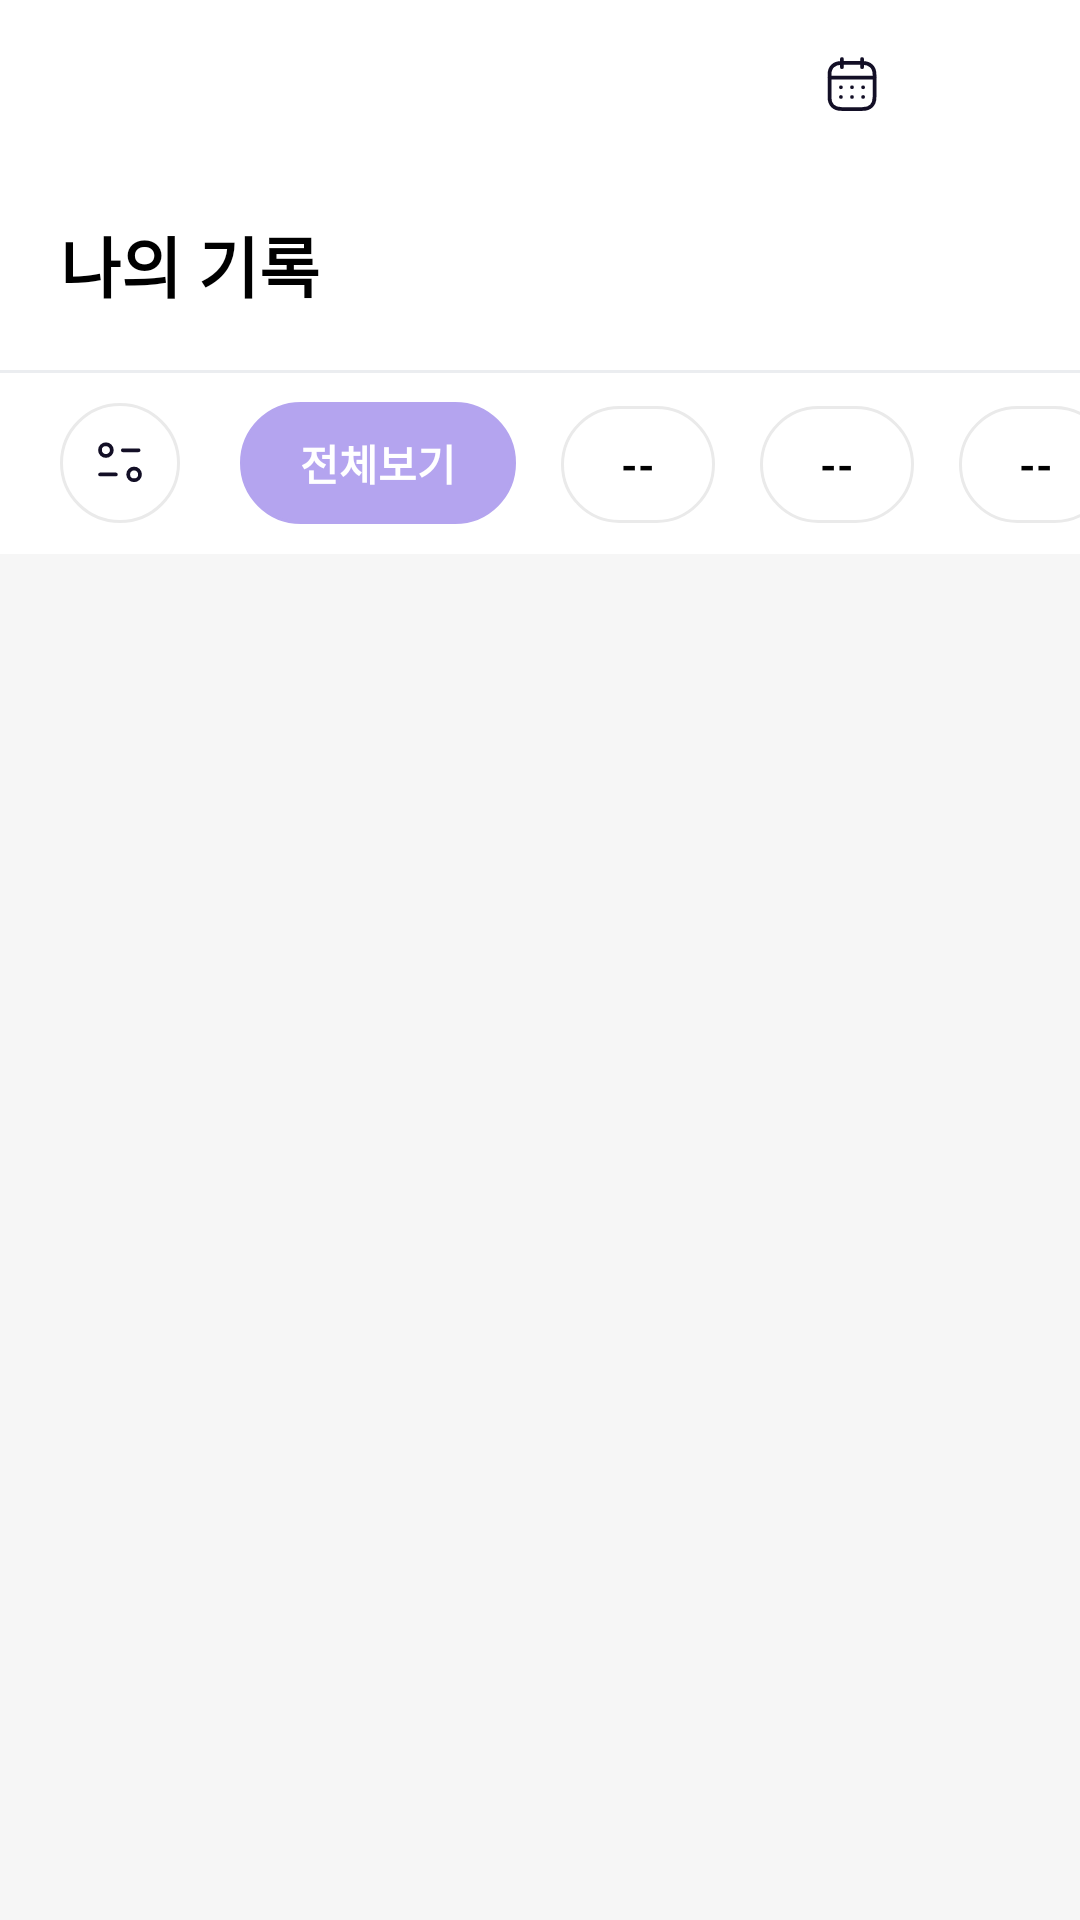

Locate icon controls on the screen. Image size 1080 x 1920, boxes as (x1,y1,x2,y2).
calender: (827,57,877,111)
filter: (98,442,142,482)
